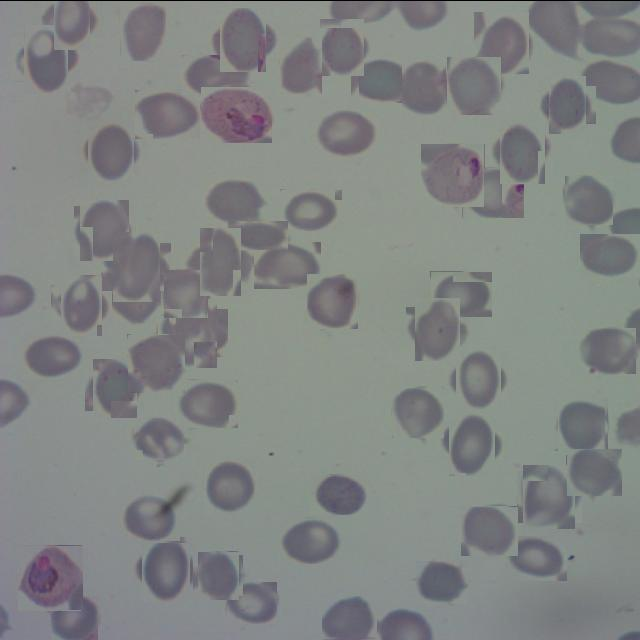gametocyte: (18, 544, 82, 610)
leukocyte: (472, 12, 531, 72), (106, 237, 166, 296), (164, 303, 222, 362), (520, 467, 579, 525), (127, 333, 185, 392), (134, 88, 200, 138), (17, 30, 74, 87), (138, 540, 195, 596), (462, 166, 524, 217), (254, 241, 321, 288), (76, 202, 132, 258), (175, 378, 238, 427), (447, 57, 502, 113), (216, 11, 271, 67), (314, 108, 378, 156), (444, 416, 500, 470), (496, 122, 550, 178), (192, 234, 248, 288), (279, 516, 342, 563), (202, 458, 256, 512), (556, 398, 610, 452), (411, 302, 465, 356), (460, 505, 518, 555), (84, 124, 138, 177), (109, 274, 164, 326), (430, 270, 492, 316), (121, 492, 180, 540), (22, 332, 83, 378), (204, 178, 265, 224), (307, 273, 358, 328), (505, 535, 567, 580), (350, 56, 410, 102), (182, 54, 250, 94), (452, 352, 504, 404), (88, 362, 140, 414), (391, 386, 444, 437), (566, 447, 622, 495), (120, 2, 166, 60), (580, 233, 640, 277), (579, 327, 636, 373), (280, 188, 342, 230), (316, 21, 367, 72), (56, 280, 108, 330), (564, 174, 613, 224), (322, 596, 377, 640), (280, 36, 322, 93), (310, 473, 367, 514), (402, 61, 446, 114), (543, 80, 591, 128), (162, 268, 209, 316), (416, 560, 468, 603), (133, 416, 184, 459), (52, 595, 100, 640), (196, 552, 242, 598), (47, 0, 96, 43), (227, 581, 277, 623), (228, 220, 288, 249)
schizont: (201, 86, 272, 142), (422, 142, 484, 206)
